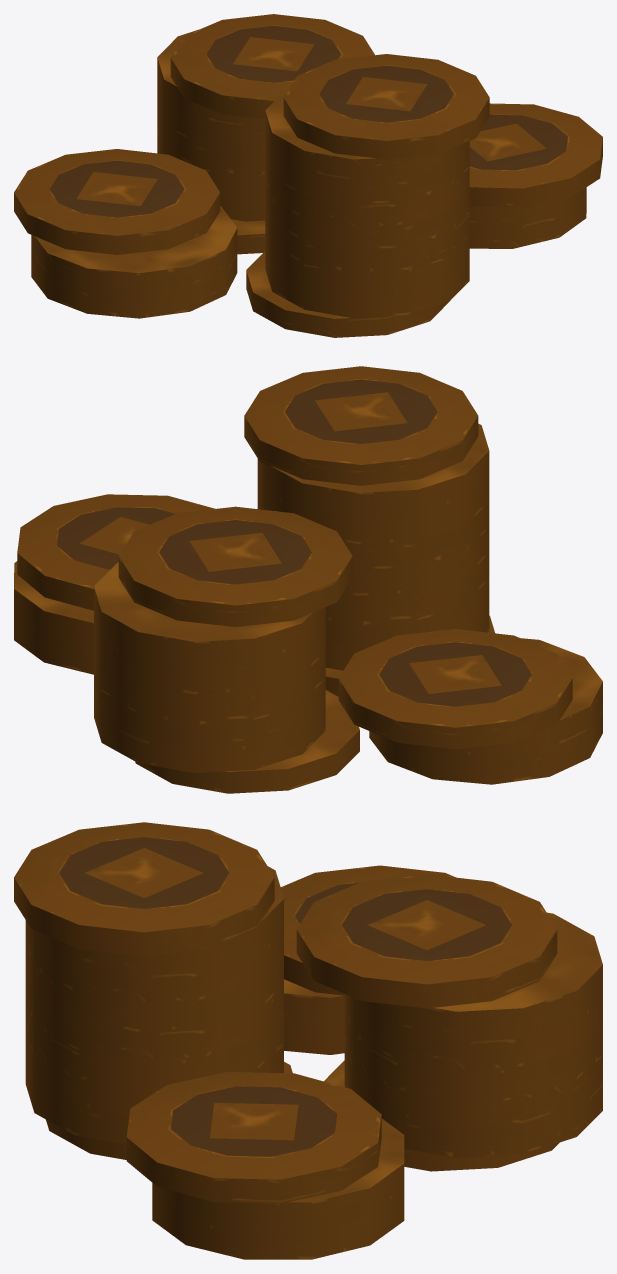
The model's file is prop_coinpile.glb.
3 renders of one model, top to bottom at view 1: azimuth 30°, elevation 25°; view 2: azimuth 150°, elevation 25°; view 3: azimuth 270°, elevation 25°, orthographic. The views are drawn at different scales.
Visible parts, largest first — view 1: Coin_Pile; view 2: Coin_Pile; view 3: Coin_Pile.
Part boxes in pixels (<box>): Coin_Pile: <box>14,14,602,337</box>; Coin_Pile: <box>14,366,602,793</box>; Coin_Pile: <box>14,822,602,1259</box>.
Bounding box in the file's own units: 0.1975 × 0.0735 × 0.1542.
1 material, 1 textured.
